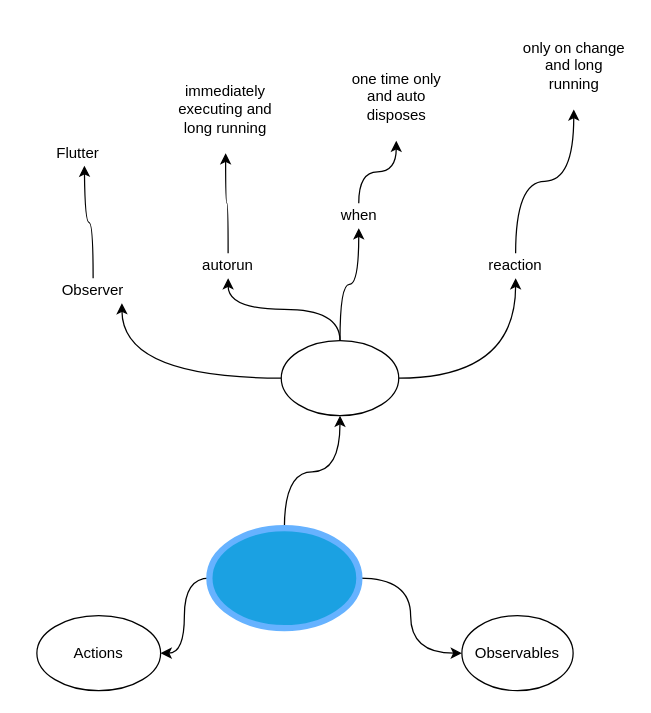
Some shapes in this 651 by 713 pixel diagram are drawn without their labels. The shapes that lost their labels are listed below. From the top down, each one's box as (x1, y1, x2, y2) in pixels, then its label:
(280, 339, 399, 416): Reactions
(206, 524, 362, 631): MobX
